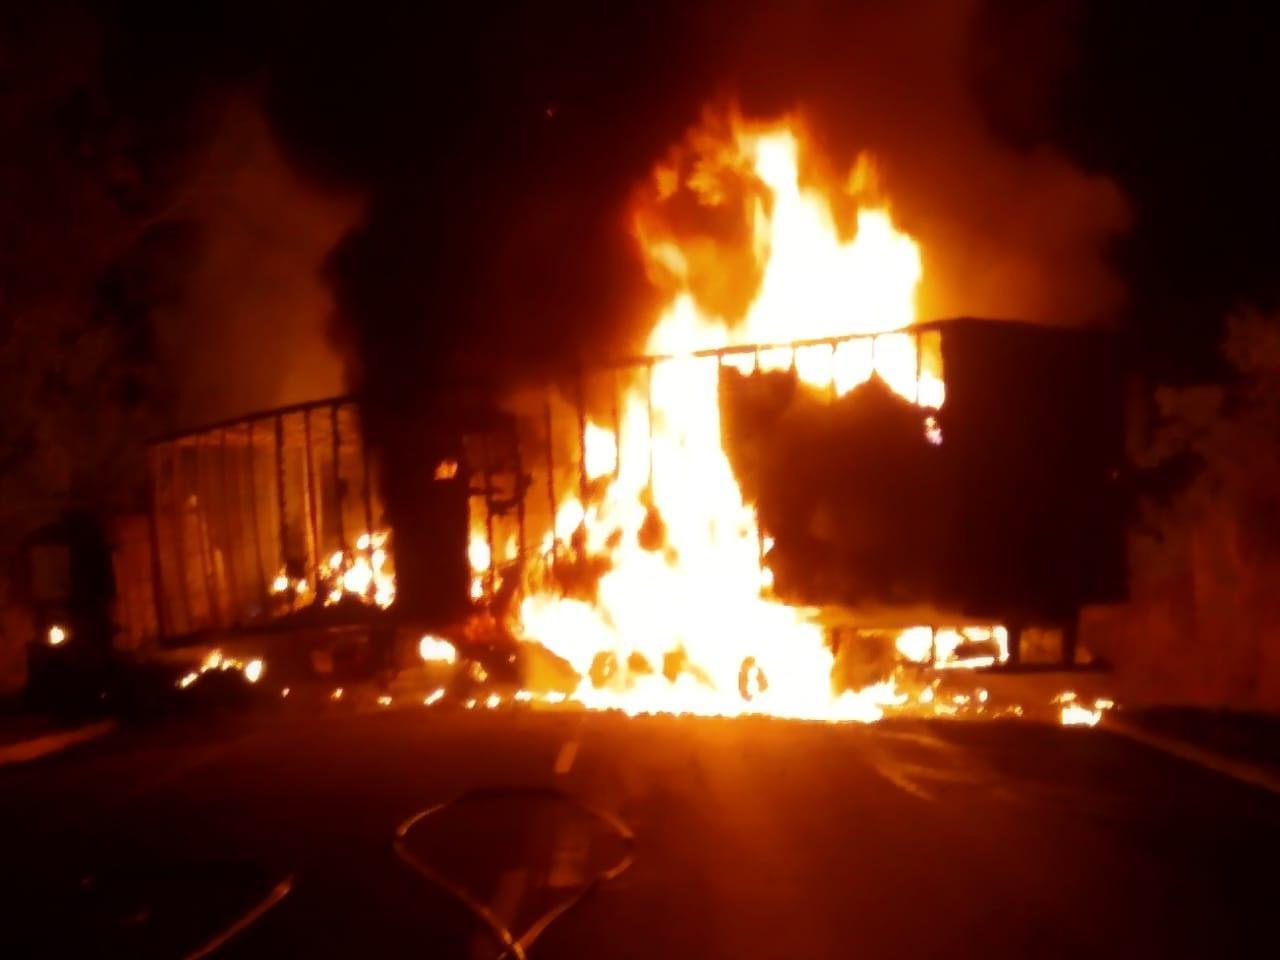Fire: (416, 107, 962, 709), (274, 533, 395, 616), (177, 647, 267, 696), (1053, 694, 1117, 726)
